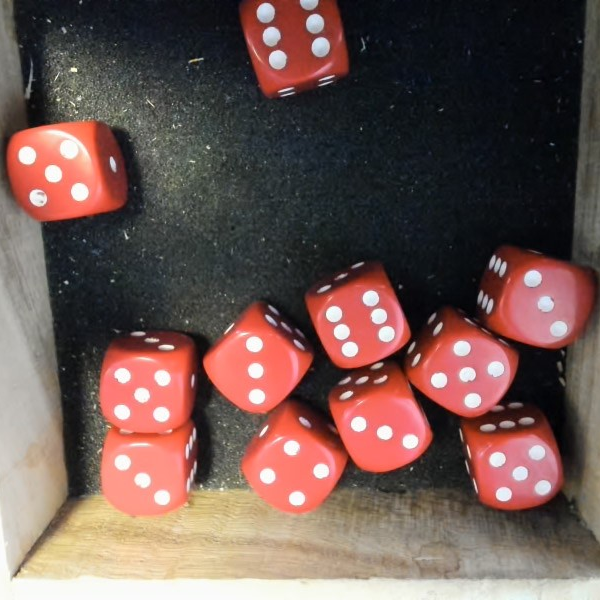red_die_pip3: (195, 297, 327, 430), (323, 356, 436, 481), (468, 242, 594, 354), (102, 434, 193, 519)
red_die_pip4: (225, 395, 357, 526)
red_die_pip5: (0, 110, 130, 233), (401, 303, 526, 427), (459, 395, 569, 521), (102, 325, 195, 430)
red_die_pip6: (301, 251, 414, 373), (236, 0, 347, 96)
